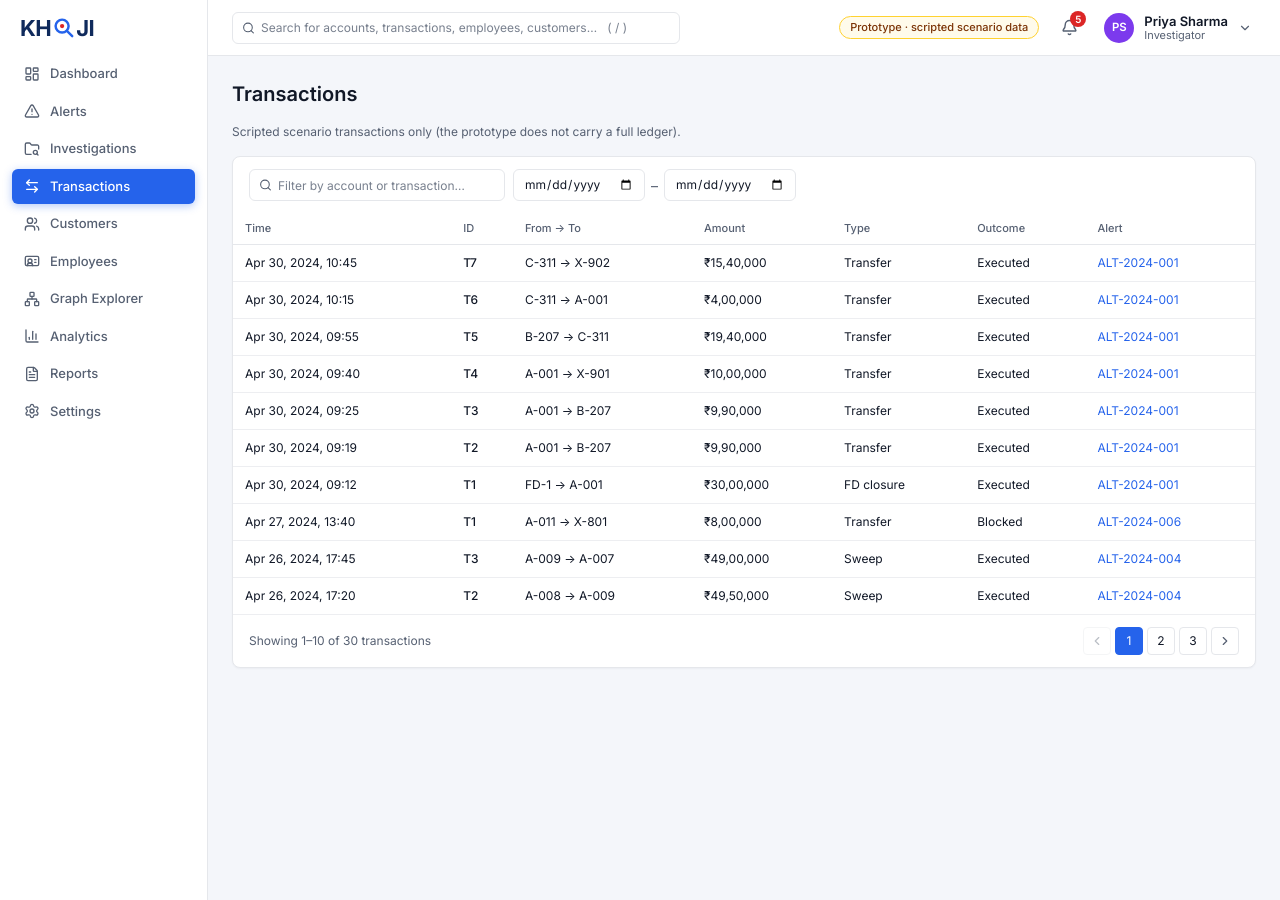
Test: Transactions › filters by account
Expected: the text with test id "txn-showing" shows "of 30", [249, 633, 431, 648]
In the search field labelled "Filter by account": x=377, y=185 [249, 169, 505, 201], type "B-207"
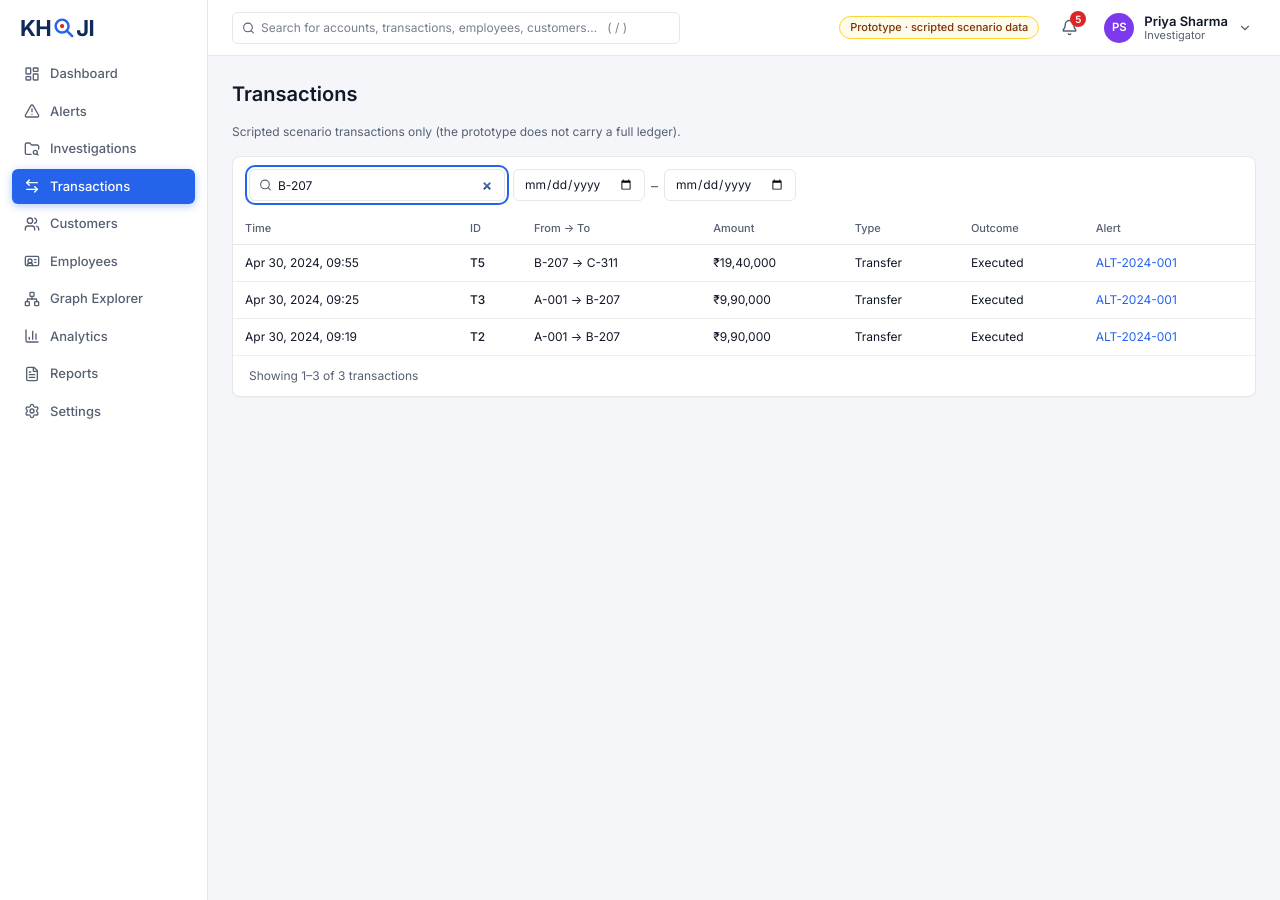
Expected: the text with test id "txn-showing" shows "of 3 transactions", [249, 368, 418, 383]
